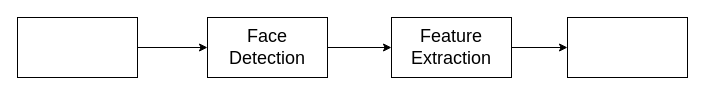
The diagram is 705 pixels wide and 95 high, and some of its shapes have lost their labels. Each missing label, with the centre of its shape:
"Data acquisition" goes at point (77, 47).
"Feature Classification" goes at point (627, 47).
